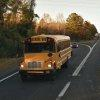Bus: (18, 29, 81, 76)
